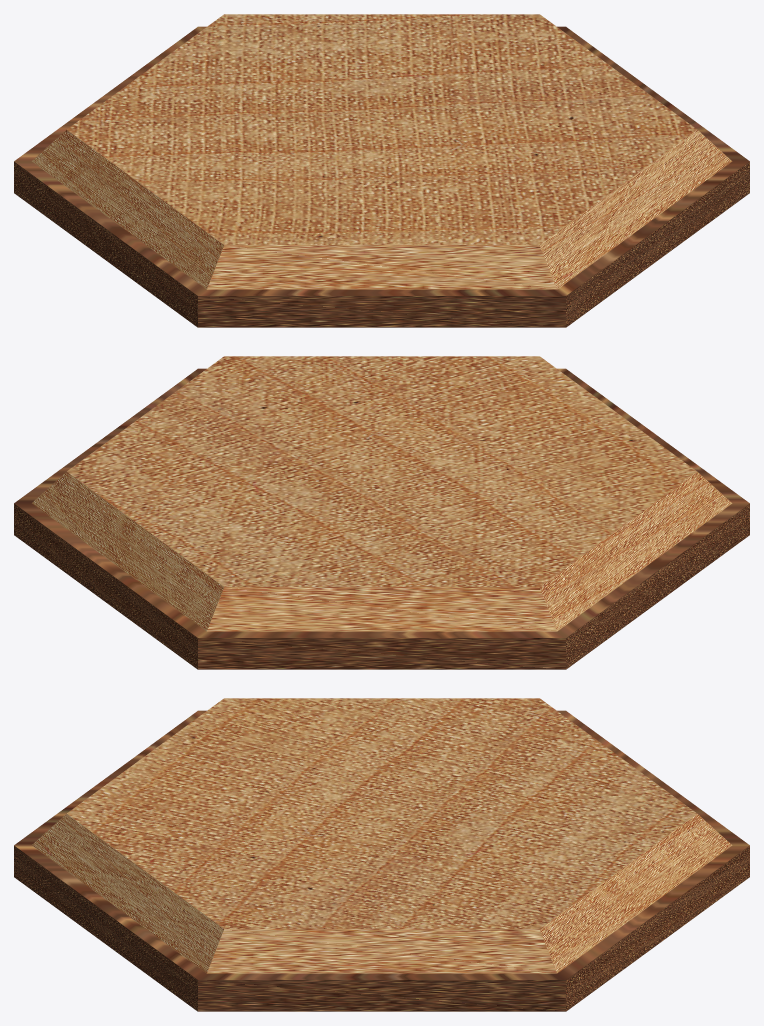
File: Hexagon.FBX
3 renders of one model, top to bottom at view 1: azimuth 30°, elevation 25°; view 2: azimuth 150°, elevation 25°; view 3: azimuth 270°, elevation 25°, orthographic.
Parts seen in each view (by area): view 1: Hexagon; view 2: Hexagon; view 3: Hexagon.
Part boxes in pixels (bbox=[...]): Hexagon: bbox=[14, 14, 749, 327]; Hexagon: bbox=[14, 356, 749, 669]; Hexagon: bbox=[14, 698, 749, 1011].
Bounding box in the file's own units: 18.19 × 21 × 2.
